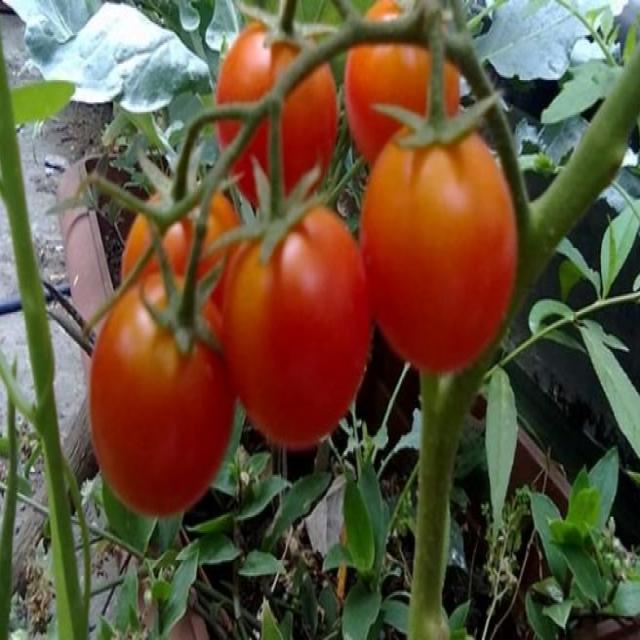level 6: (358, 122, 518, 376), (221, 195, 370, 456), (89, 269, 234, 520), (214, 19, 338, 221), (117, 182, 242, 370), (344, 2, 460, 172)
